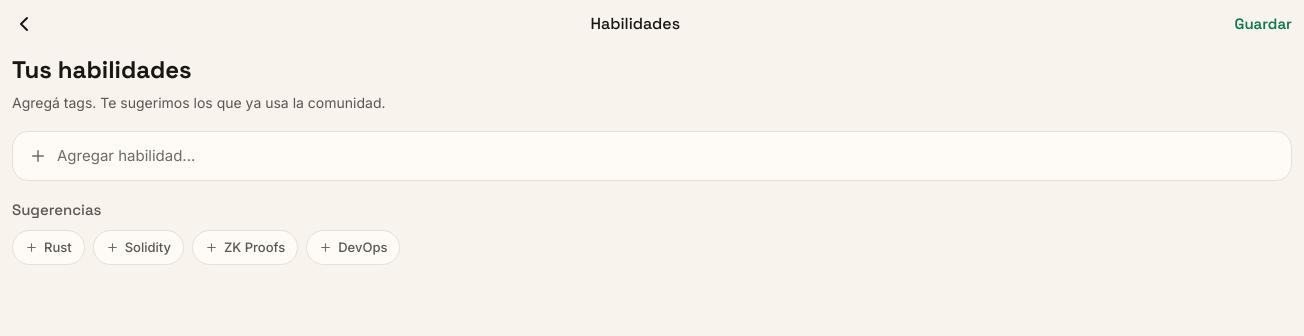
Scenario: EditSkills › shows the action error when the save fails
Click the button "Guardar" at point(1263, 24), box top-left (1234, 13), bottom-right (1292, 35)
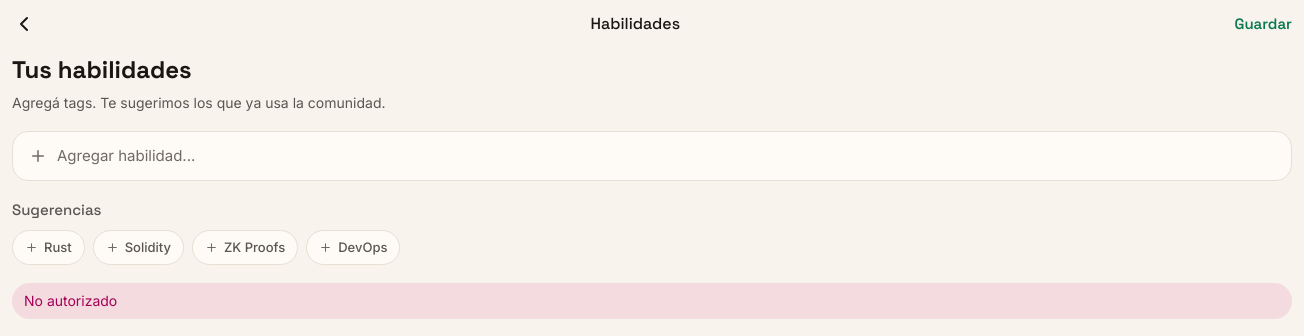
Expected: the message reads "No autorizado", top-left (24, 292), bottom-right (117, 309)
